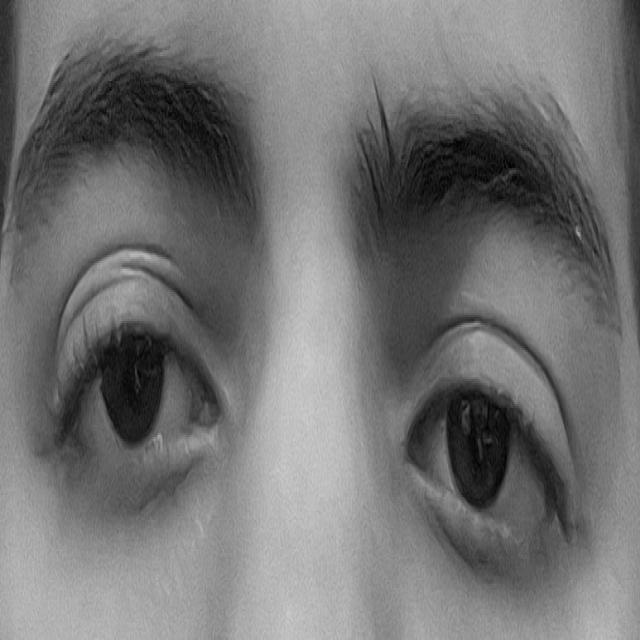real: (9, 96, 621, 598)
